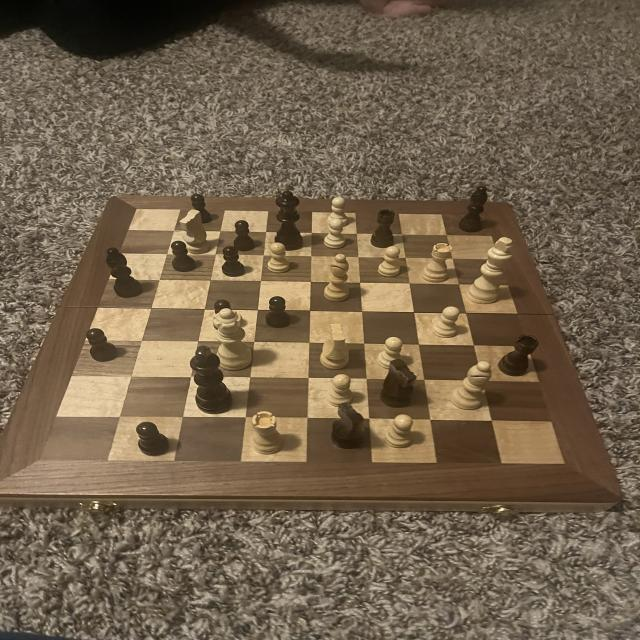bishop: (102, 245, 146, 301), (455, 185, 492, 235)
black-bishop: (184, 344, 236, 414)
black-king: (377, 358, 418, 410), (328, 401, 368, 452)
black-knight: (133, 420, 174, 460), (83, 327, 120, 363), (220, 245, 250, 279), (264, 295, 292, 331), (170, 239, 199, 273), (231, 218, 257, 253), (188, 192, 213, 224), (212, 298, 236, 330)
black-pawn: (270, 190, 308, 254)
black-queen: (495, 334, 542, 378), (368, 207, 402, 253)
black-rook: (447, 359, 495, 412), (320, 252, 356, 305)
white-bishop: (464, 234, 516, 305)
white-king: (177, 208, 216, 256), (317, 322, 355, 371)
white-knight: (383, 412, 420, 450), (426, 304, 462, 341), (374, 334, 407, 372), (323, 373, 356, 410), (266, 240, 296, 274), (324, 195, 353, 228), (320, 218, 349, 250), (378, 245, 404, 279)
white-pawn: (209, 306, 258, 373)
white-queen: (417, 242, 460, 285), (249, 409, 285, 456)
